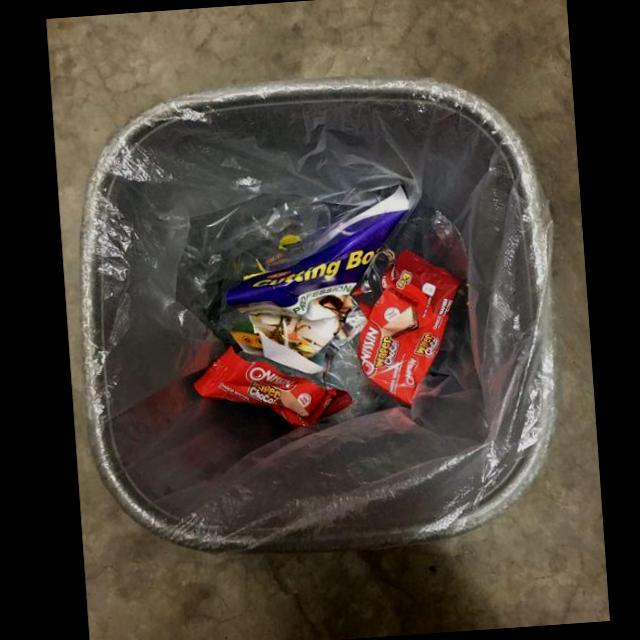bao_bi_thuc_pham: (350, 248, 461, 408), (193, 346, 354, 428)
giay: (226, 187, 408, 369)
